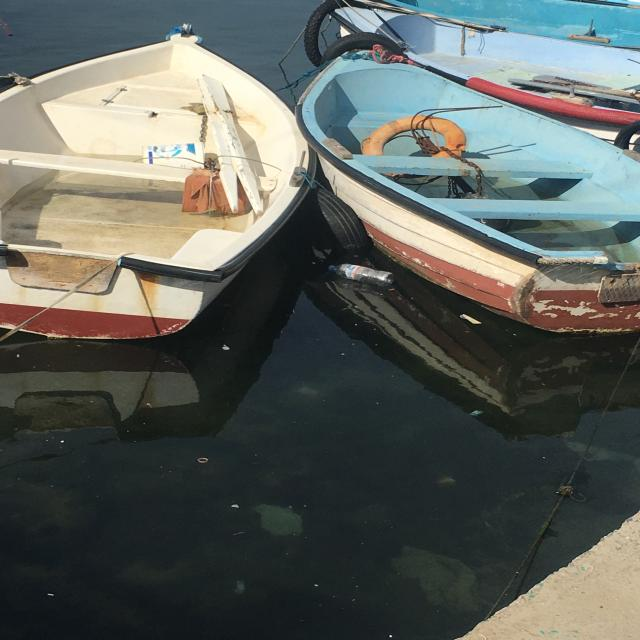Juice Box: (468, 408, 485, 418)
Plastic Bag: (386, 542, 482, 616), (250, 502, 306, 538)
Plastic Bottle: (327, 262, 395, 288)
Plastic Waste: (459, 313, 482, 325), (197, 456, 209, 464)
